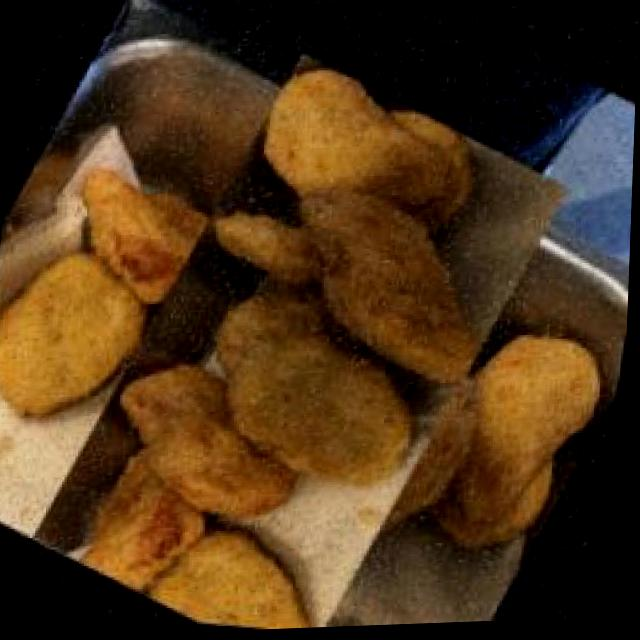chicken_nuggets: (0, 52, 620, 640)
